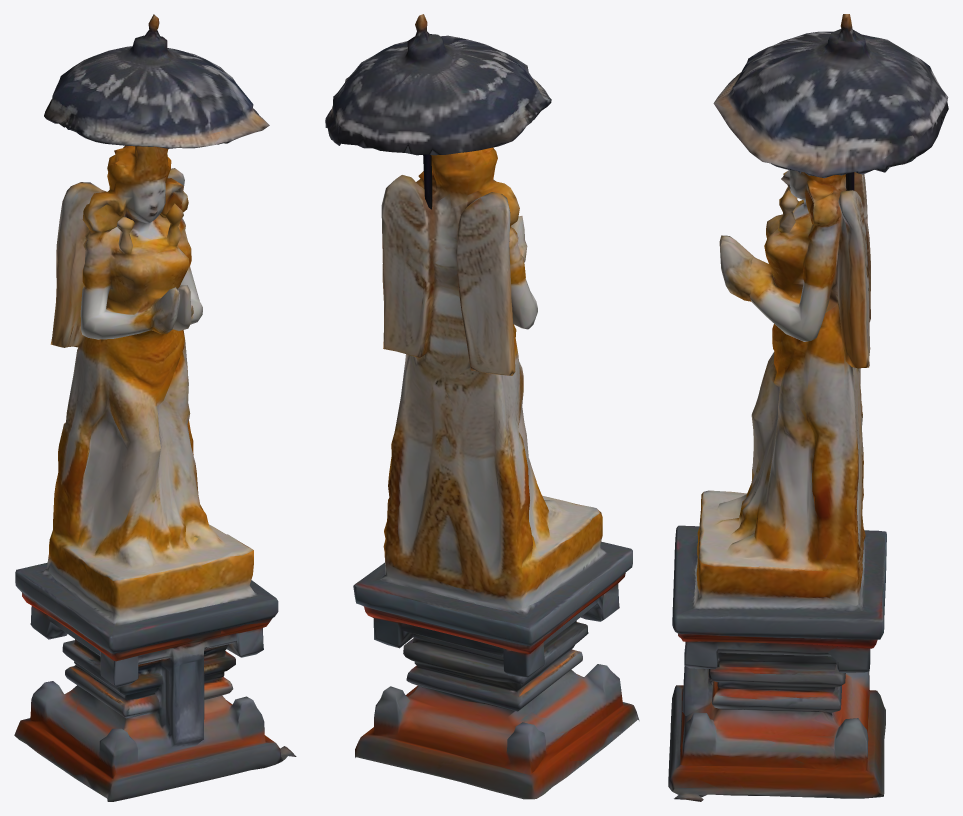
The model's file is patung.glb.
3 renders of one model, left to right at view 1: azimuth 30°, elevation 25°; view 2: azimuth 150°, elevation 25°; view 3: azimuth 270°, elevation 25°, orthographic. The views are drawn at different scales.
Parts seen in each view (by area): view 1: tripo_node_9d30e370-3cec-4fa0-b20a-a9b804d2b3a1, tripo_node_9d30e370-3cec-4fa0-b20a-a9b804d2b3a1.001; view 2: tripo_node_9d30e370-3cec-4fa0-b20a-a9b804d2b3a1, tripo_node_9d30e370-3cec-4fa0-b20a-a9b804d2b3a1.001; view 3: tripo_node_9d30e370-3cec-4fa0-b20a-a9b804d2b3a1, tripo_node_9d30e370-3cec-4fa0-b20a-a9b804d2b3a1.001.
Boxes of the visible parts, x1=… form: tripo_node_9d30e370-3cec-4fa0-b20a-a9b804d2b3a1: x1=14, y1=145, x2=296, y2=801; tripo_node_9d30e370-3cec-4fa0-b20a-a9b804d2b3a1.001: x1=44, y1=14, x2=269, y2=148; tripo_node_9d30e370-3cec-4fa0-b20a-a9b804d2b3a1: x1=353, y1=147, x2=639, y2=799; tripo_node_9d30e370-3cec-4fa0-b20a-a9b804d2b3a1.001: x1=325, y1=14, x2=551, y2=209; tripo_node_9d30e370-3cec-4fa0-b20a-a9b804d2b3a1: x1=668, y1=170, x2=886, y2=801; tripo_node_9d30e370-3cec-4fa0-b20a-a9b804d2b3a1.001: x1=713, y1=14, x2=948, y2=190.
Bounding box in the file's own units: 0.3208 × 0.9979 × 0.3343.
Materials: 1 (1 with a texture image).
